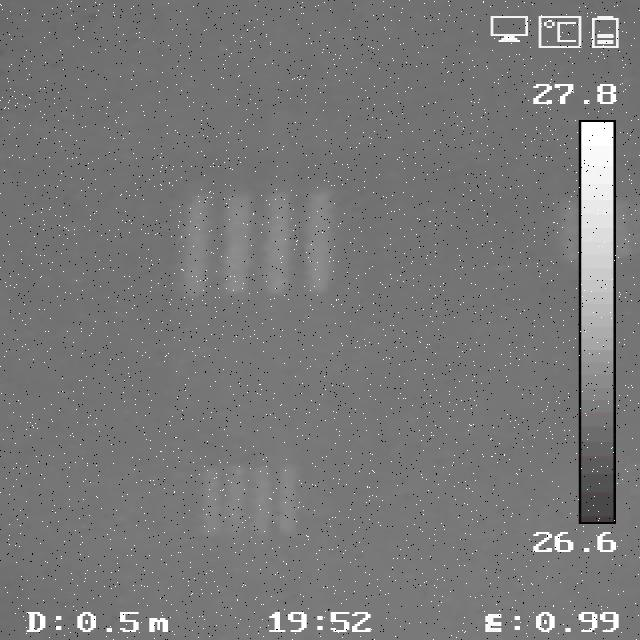Distinguishable 4-bar target: (182, 190, 342, 297)
threshold 4-bar target: (195, 464, 301, 540)
